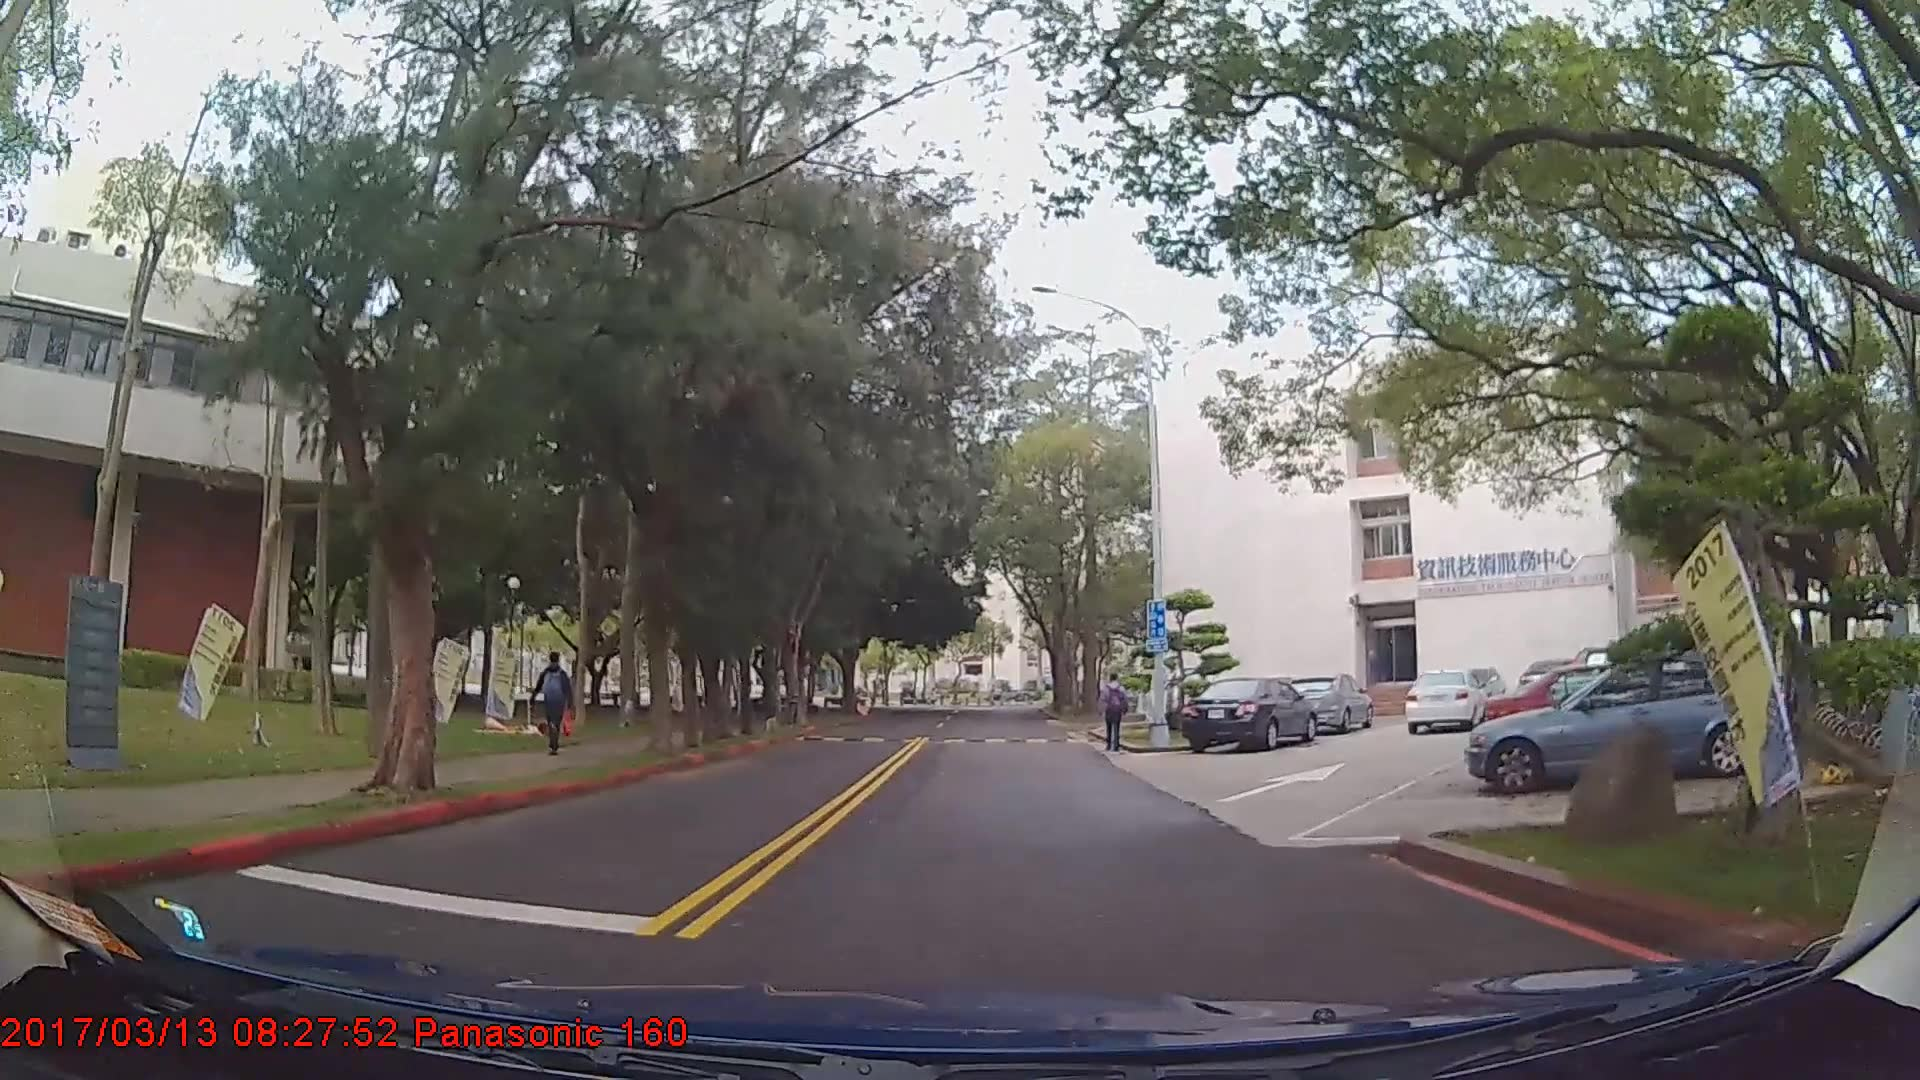pedestrian: (536, 653, 573, 759), (1100, 674, 1129, 754)
vehicle: (1466, 655, 1791, 796), (1181, 678, 1320, 757), (1400, 669, 1485, 736), (1285, 673, 1375, 734)
